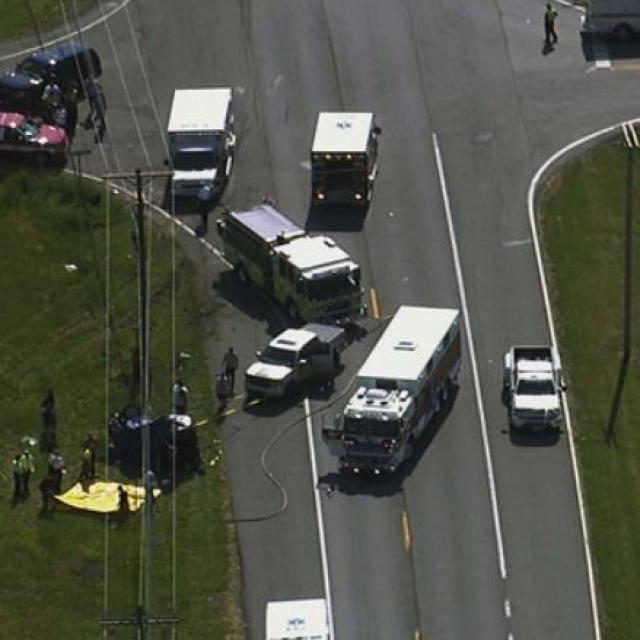traffic_incident: (99, 392, 197, 474)
